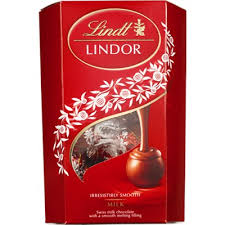Chocolate: (35, 1, 196, 225)
